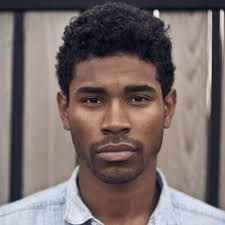black_male: (54, 40, 176, 192)
